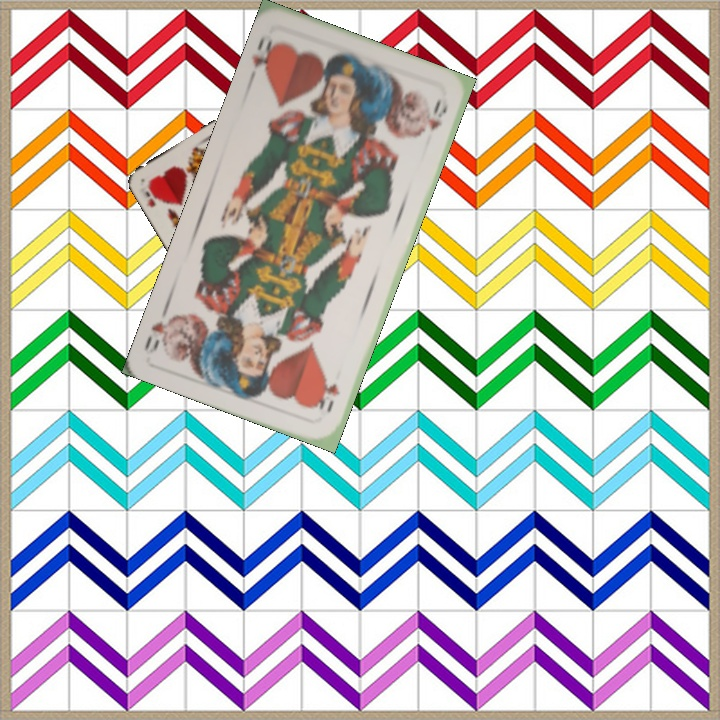HK: (141, 177, 163, 210)
HO: (245, 31, 283, 84), (314, 379, 343, 416)
